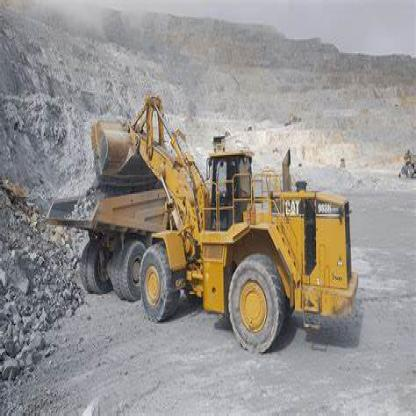bull_dozer/loader/grader: (92, 105, 367, 358)
